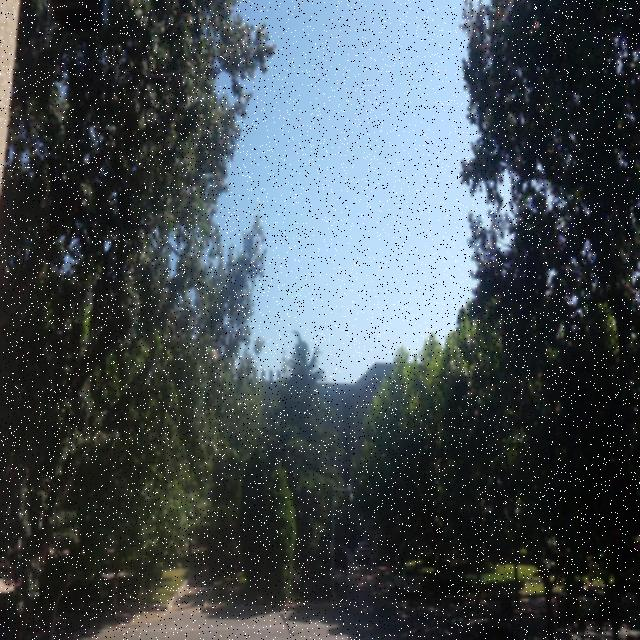UAV: (339, 308, 341, 312)
